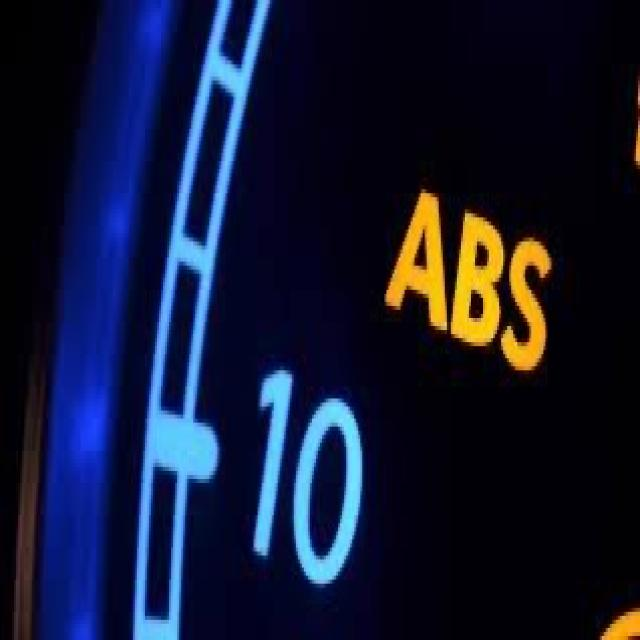kontrolka: (379, 160, 558, 396)
